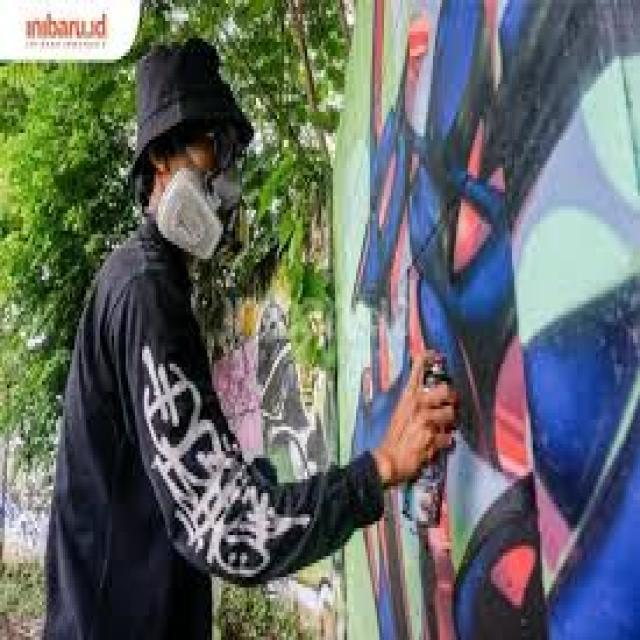-: (344, 0, 640, 638), (255, 303, 342, 592)
